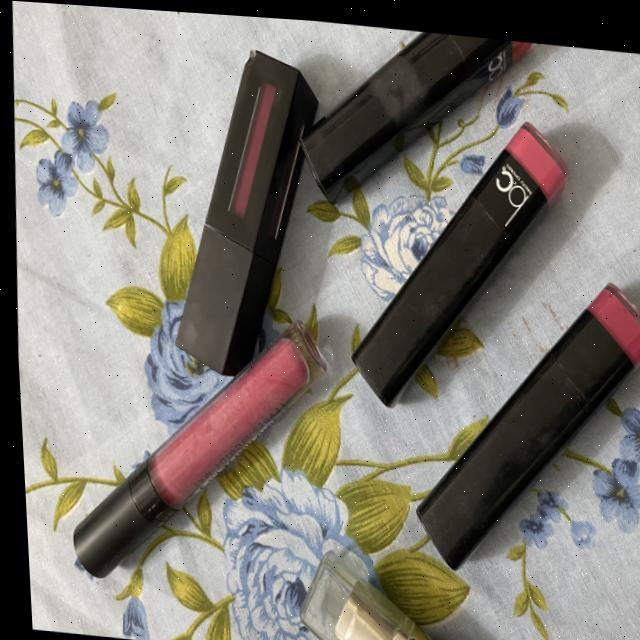lip gloss: (45, 294, 322, 640), (116, 6, 332, 386)
lip stick: (325, 88, 579, 455), (388, 261, 640, 613), (290, 15, 553, 249), (275, 533, 514, 640)
